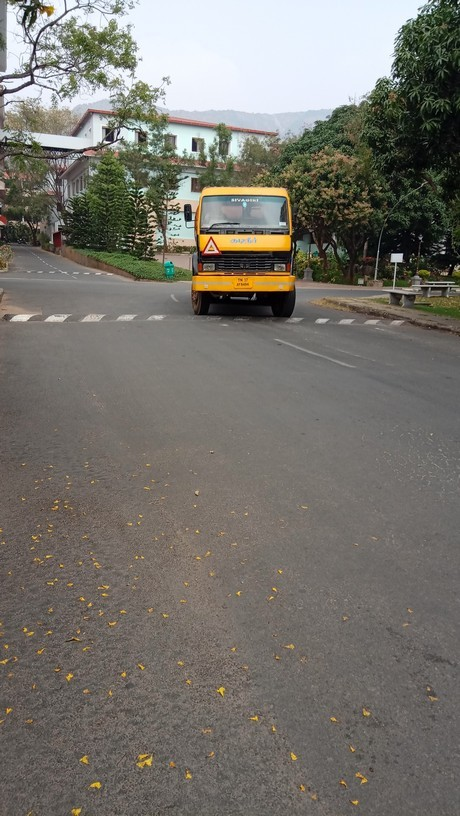bump: (1, 310, 411, 327)
